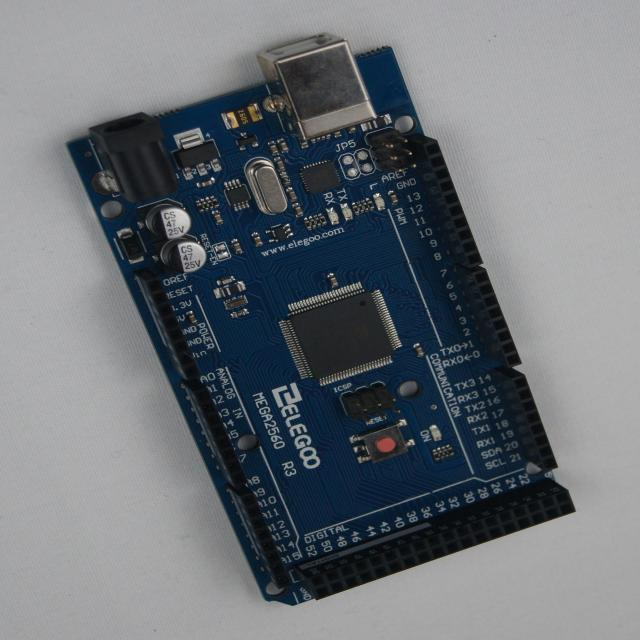Arduino Mega 2560 -Blue-: (69, 34, 575, 605)
